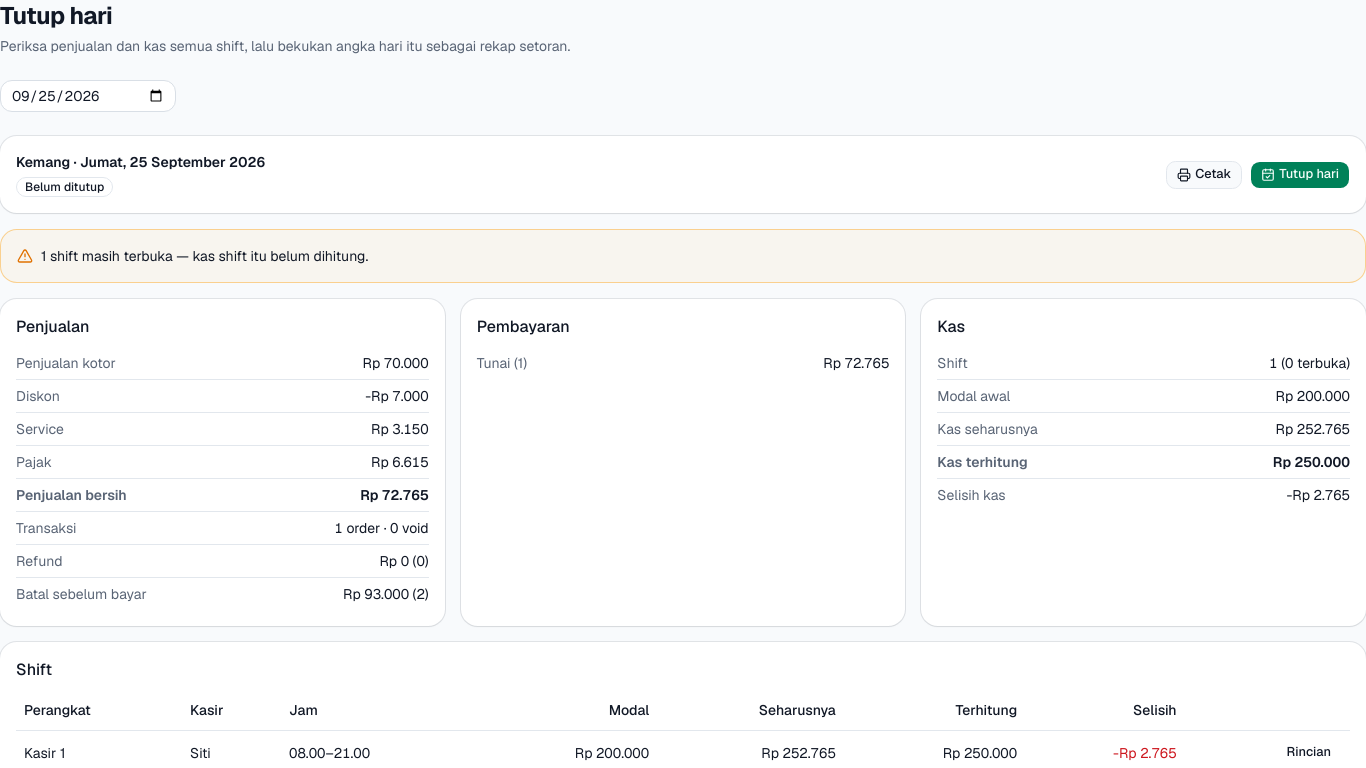
Test: DayClosingScreen › closes the day with a note once the warnings are acknowledged
expect the text "1 shift masih terbuka — kas shift itu belum dihitung." is shown: met, box [41,246,368,266]
Click the button "Tutup hari" at (1300, 174), box [1250,160,1350,188]
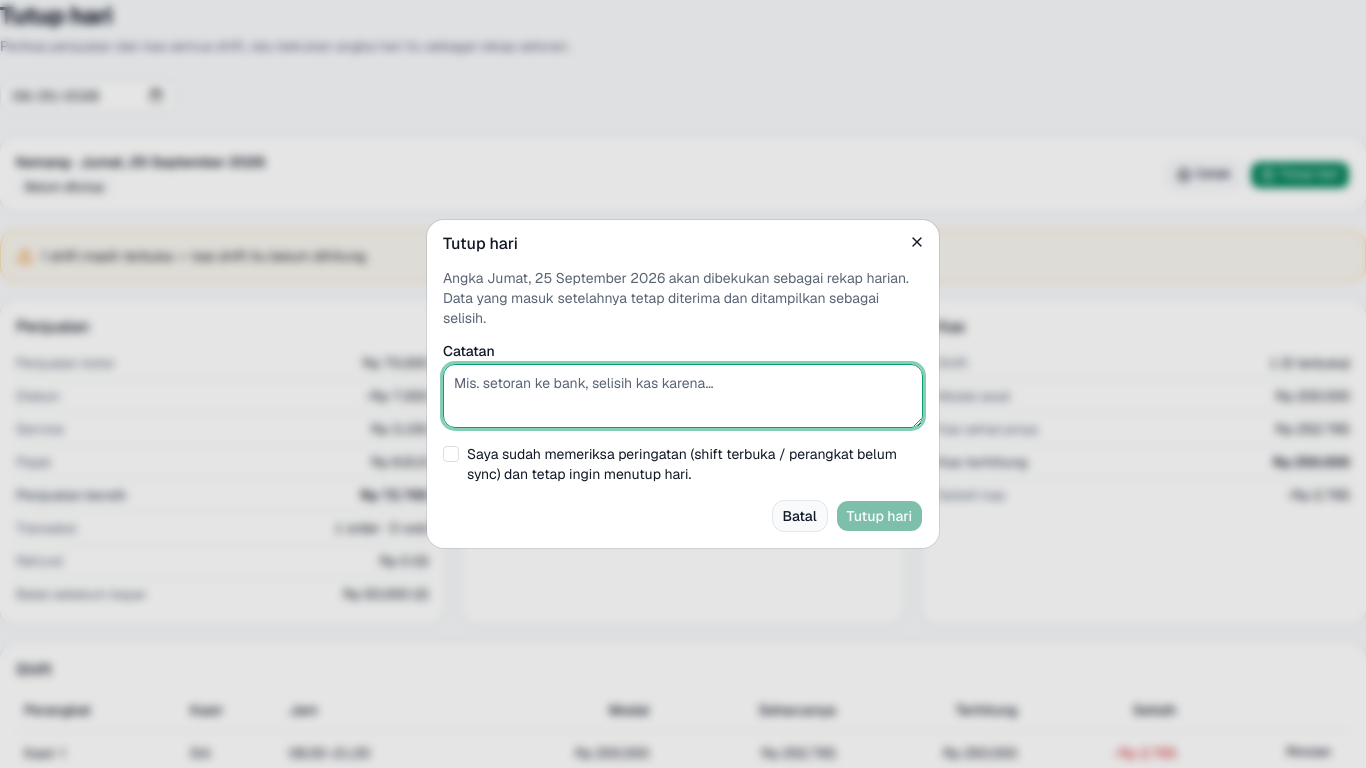
Type "Setor bank" into the text box labelled "Catatan" at (683, 396), box [443,364,923,428]
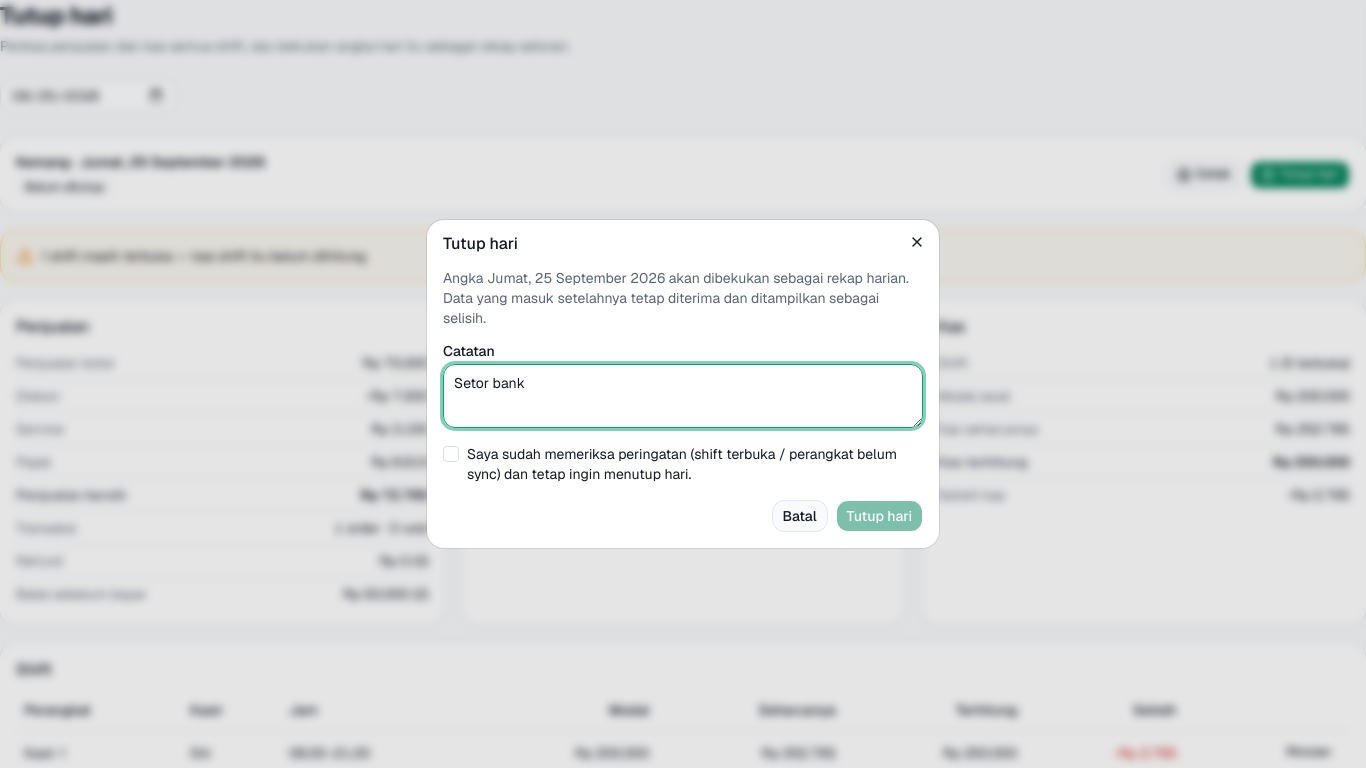
expect the button "Tutup hari" is disabled: met, box [836,500,923,532]
Click the checkbox at (451, 454), box [443,446,459,462]
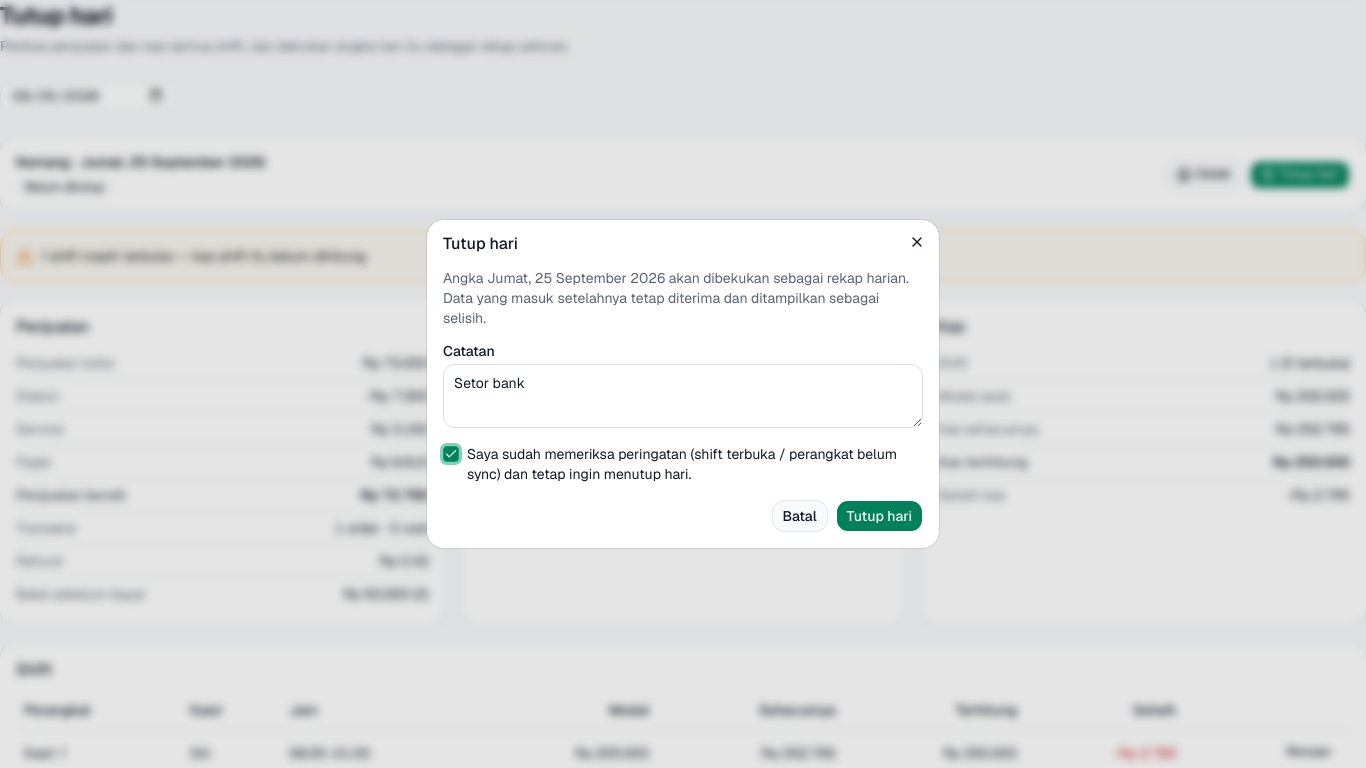
Click the button "Tutup hari" at (879, 516), box [836,500,923,532]
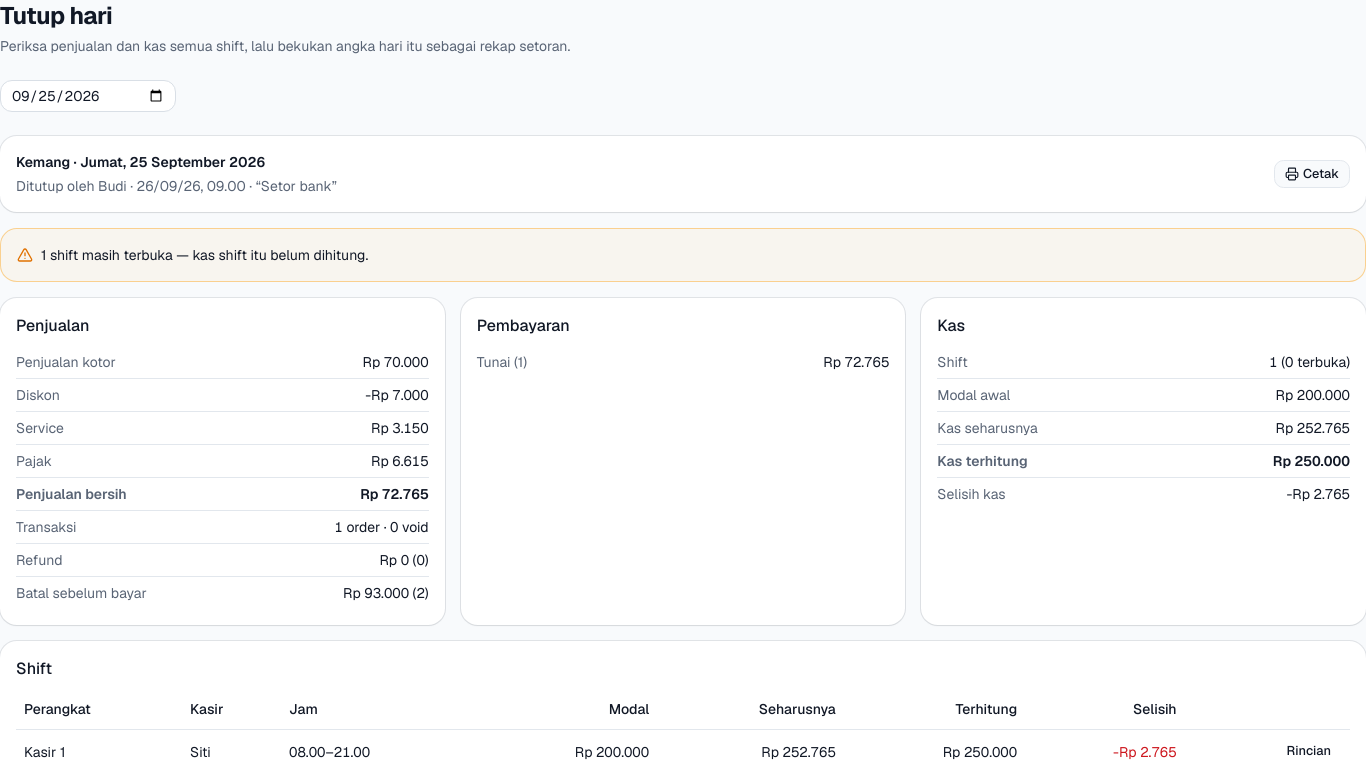
expect the text "Ditutup oleh Budi · 26/09/26, 09.00 · “Setor bank”" is shown: met, box [16,176,337,196]
